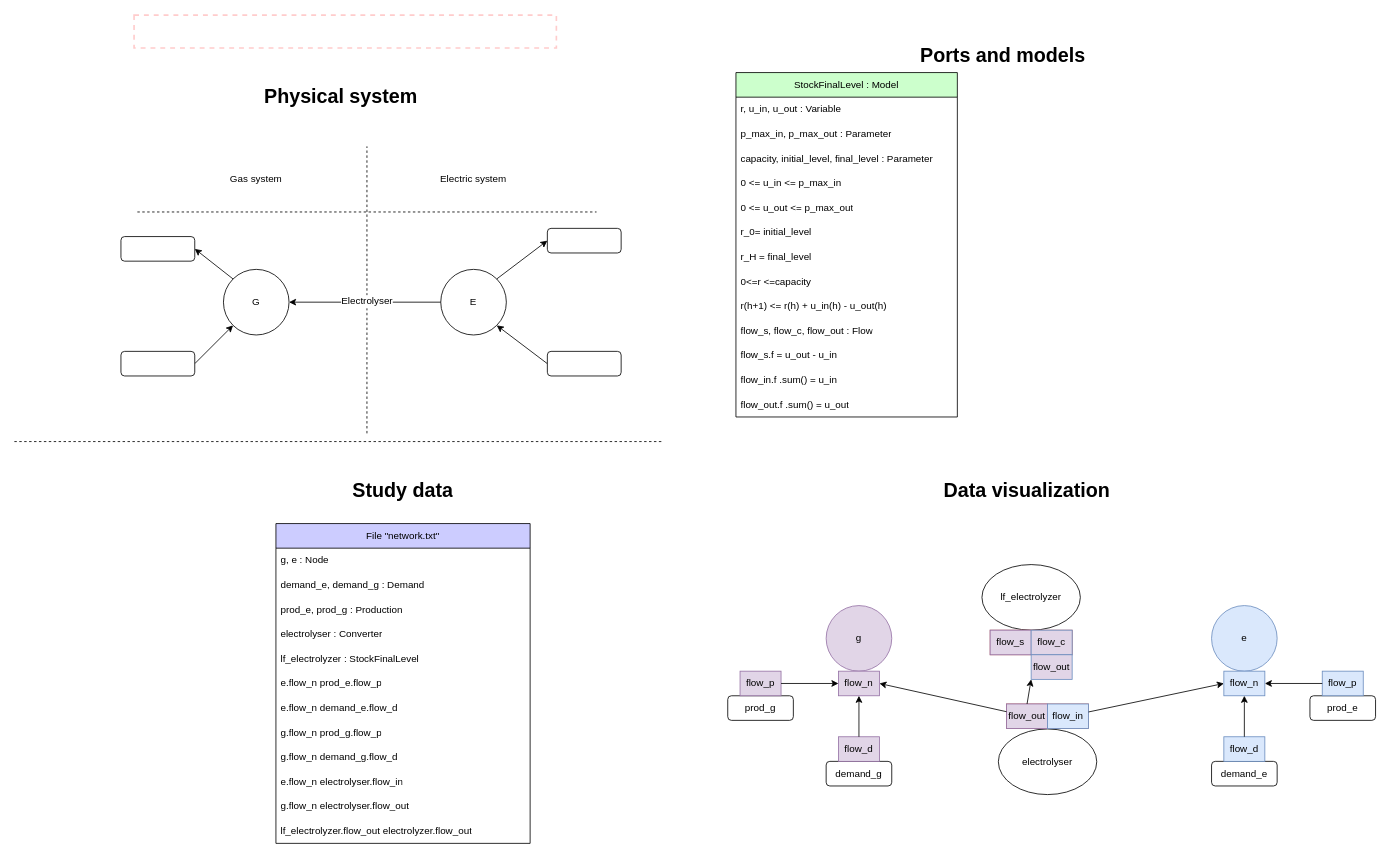
Image size: 1390x858. Some labels were removed from this diagram. Each missing label, with the centre of its shape:
"Elec demand" belongs at [584,240].
"Elec production" belongs at [584,363].
"Gas demand" belongs at [157,248].
"Gas production" belongs at [157,363].
"We represent a electrolyzer that should respect a load factor during the week." belongs at [345,31].
